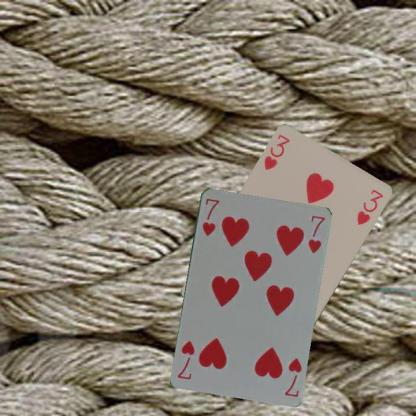3h: (261, 132, 292, 172)
7h: (282, 354, 303, 398), (199, 196, 220, 238)
